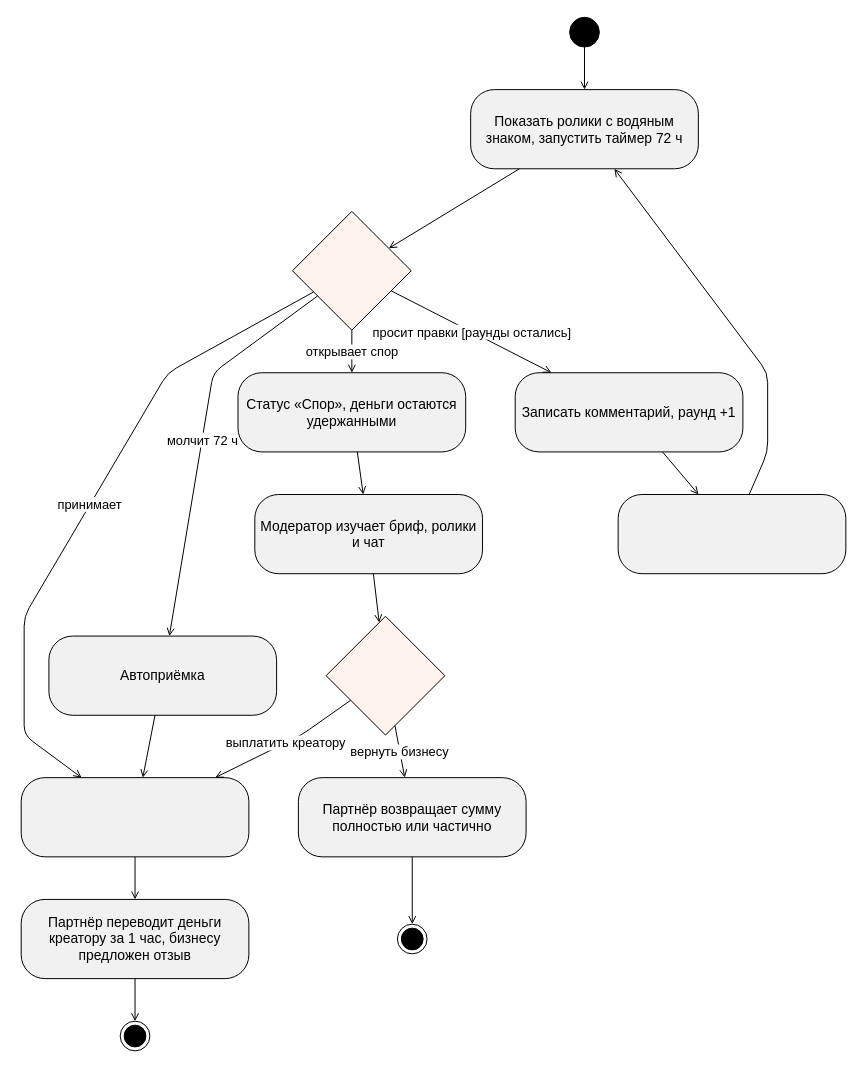
Image size: 863x1068. Some labels were removed from this diagram. The shapes that lost their labels are listed below. From the top down, each one's box as (x1, y1, x2, y2) in pixels, then its label:
(291, 210, 411, 330): Решение бизнеса
(617, 494, 846, 574): Креатор вносит правки и загружает снова
(325, 615, 445, 735): Решение
(20, 777, 249, 857): Заказ «Принят»
